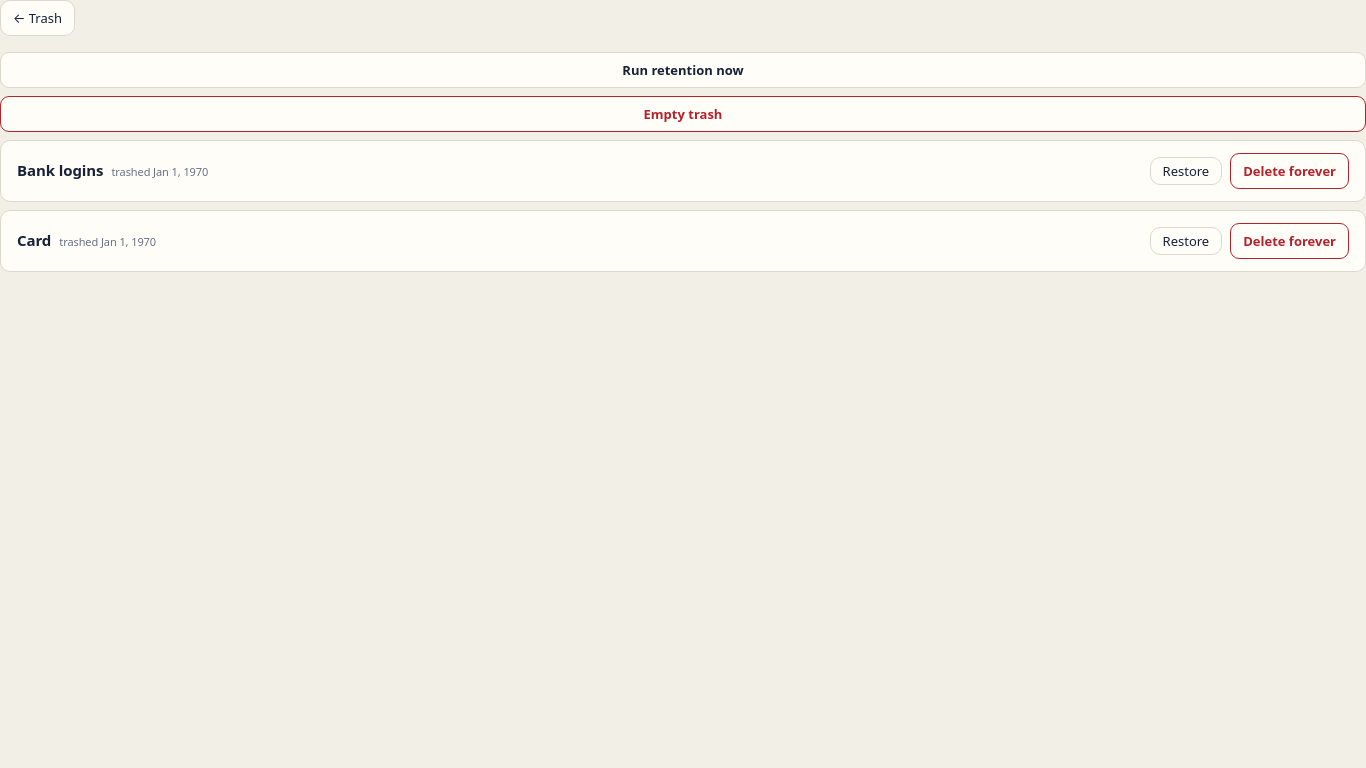
TrashView › clears a stale success banner when a later purge is cancelled at re-auth
Expected: the text "Bank logins" is shown, [17, 160, 104, 180]
Note: First purge succeeds and leaves a "Deleted forever" success banner.
Click the button with aria-label "permanently delete block bank logins": x=1290, y=171 [1230, 153, 1349, 189]
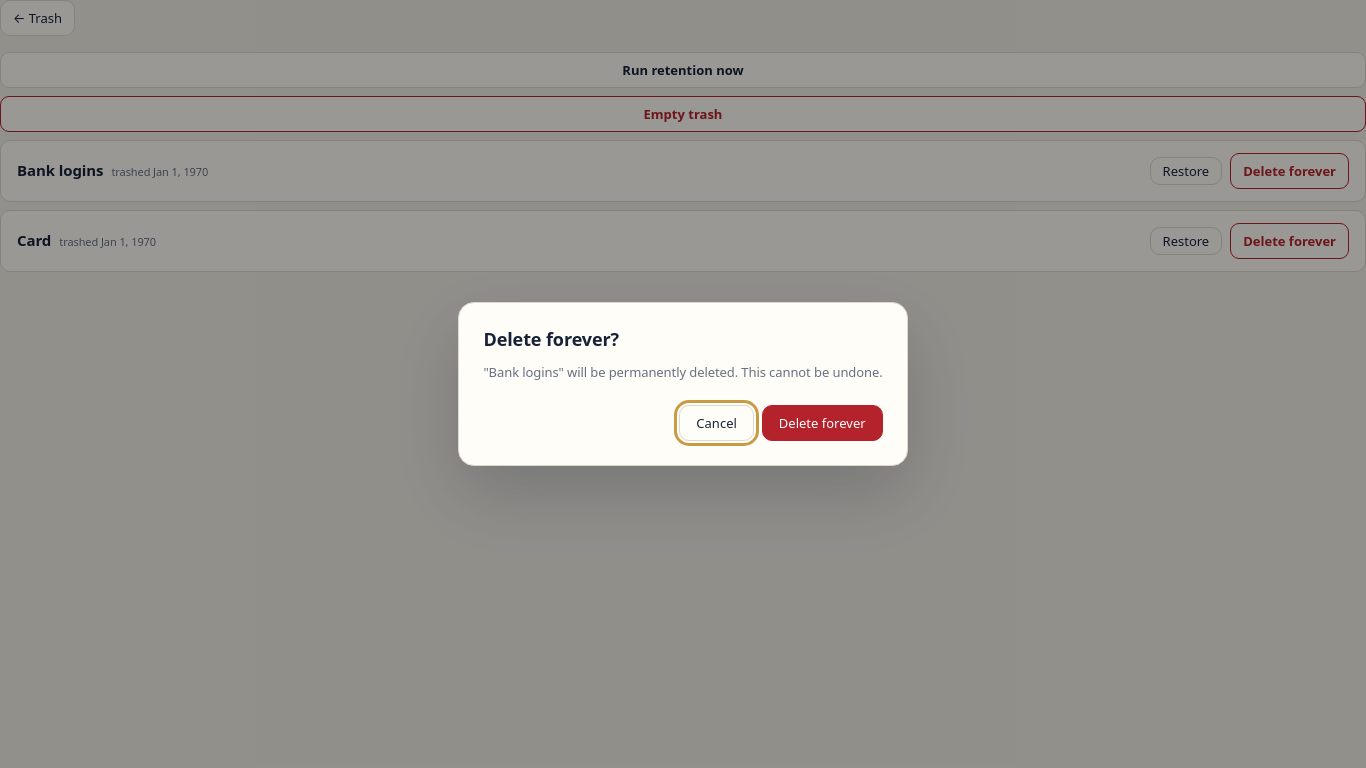
Click the button "Delete forever": x=822, y=423 [762, 405, 883, 441]
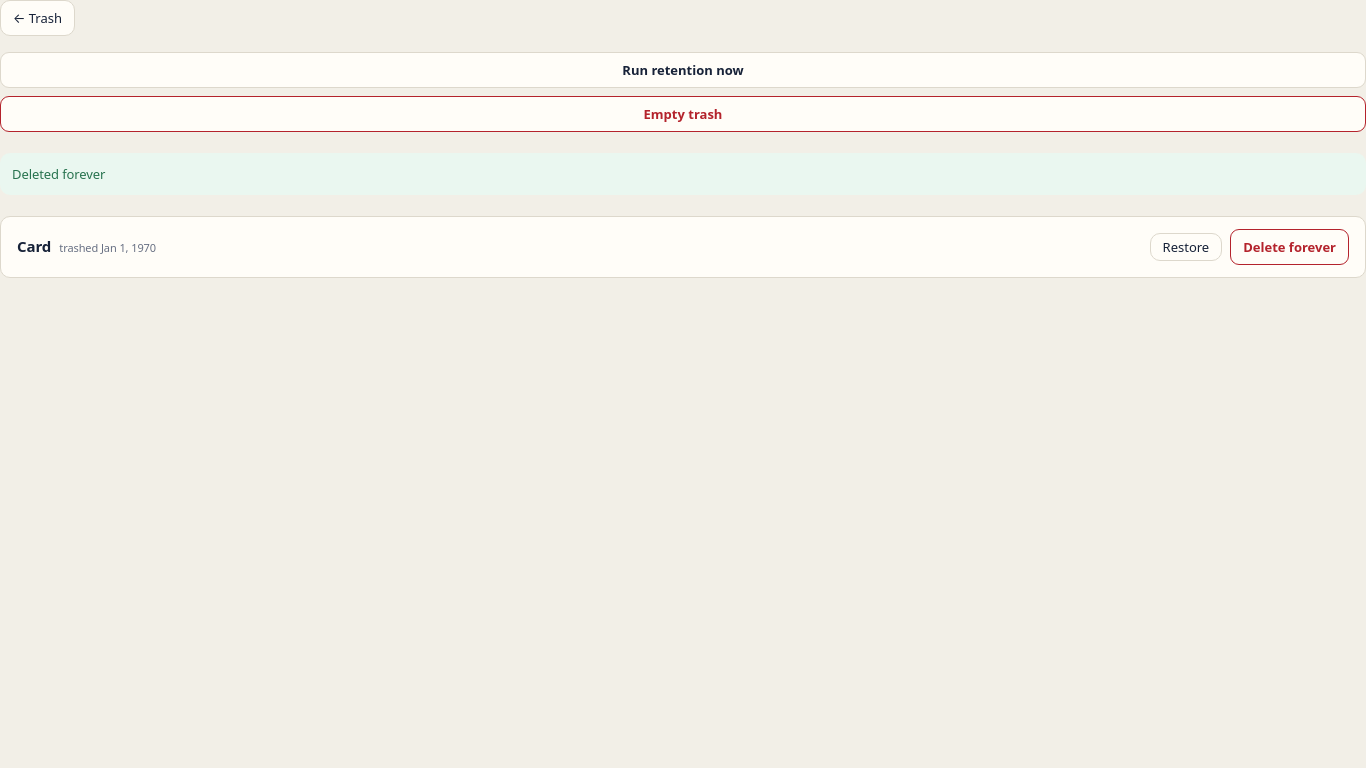
Expected: the text "Card" is shown, [17, 236, 51, 256]
Expected: the message reads "Deleted forever", [12, 165, 105, 183]
Click the button with aria-label "permanently delete block card": x=1290, y=247 [1230, 229, 1349, 265]
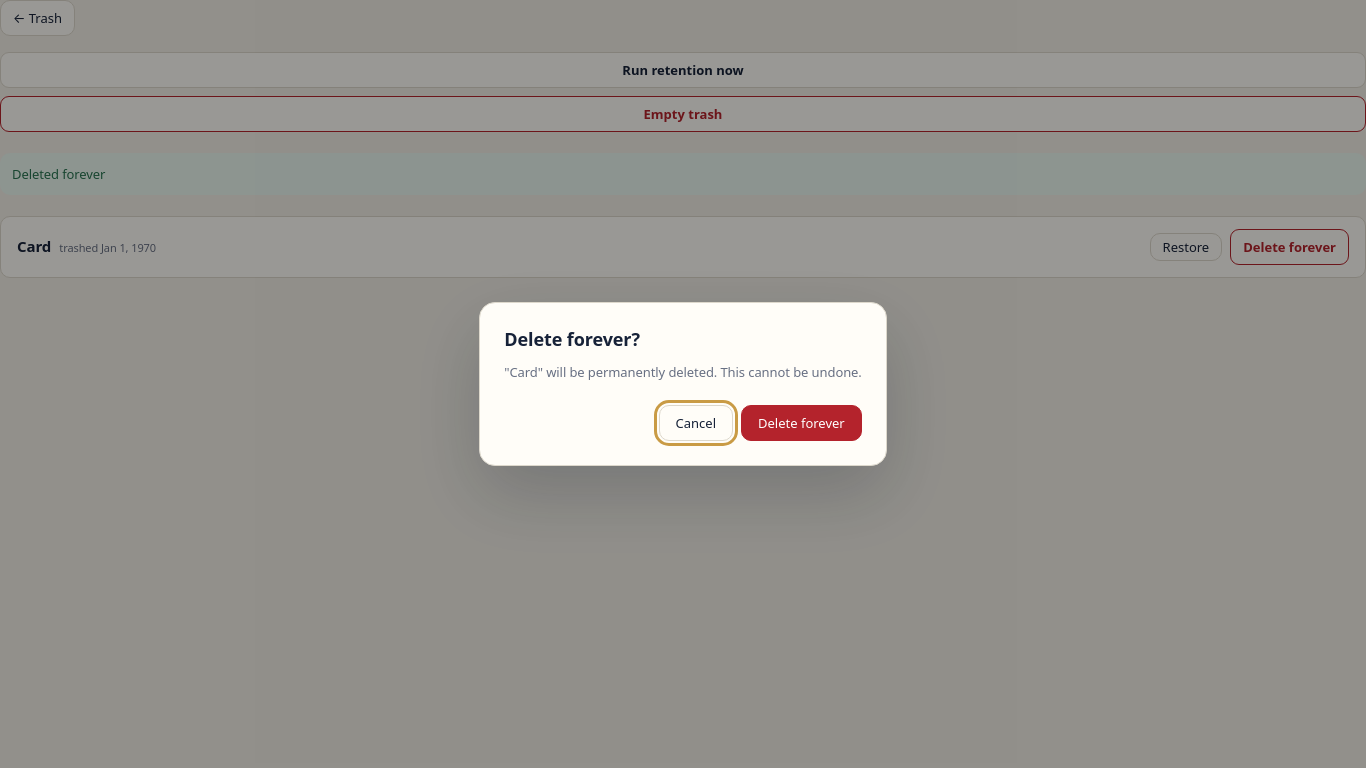
Click the button "Delete forever": x=801, y=423 [741, 405, 862, 441]
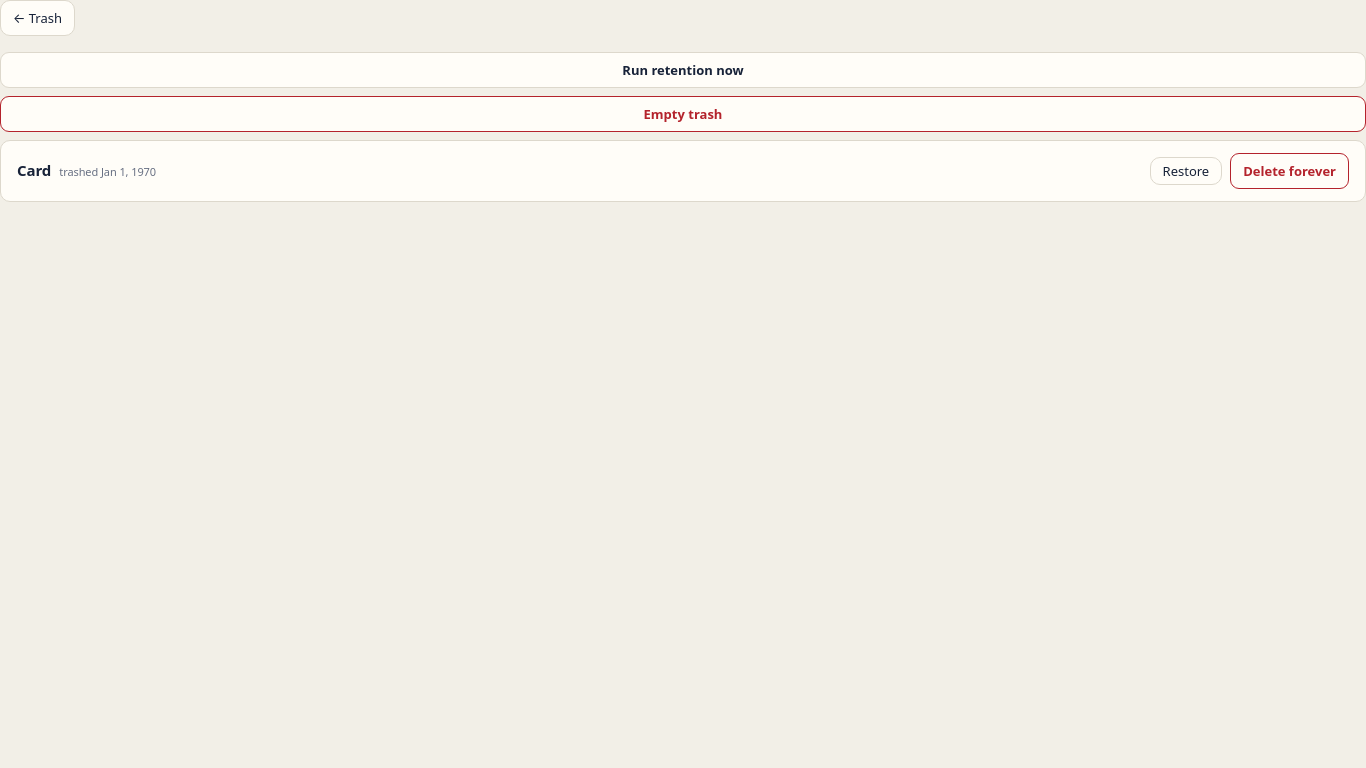
Expected: the message "Deleted forever" is gone
